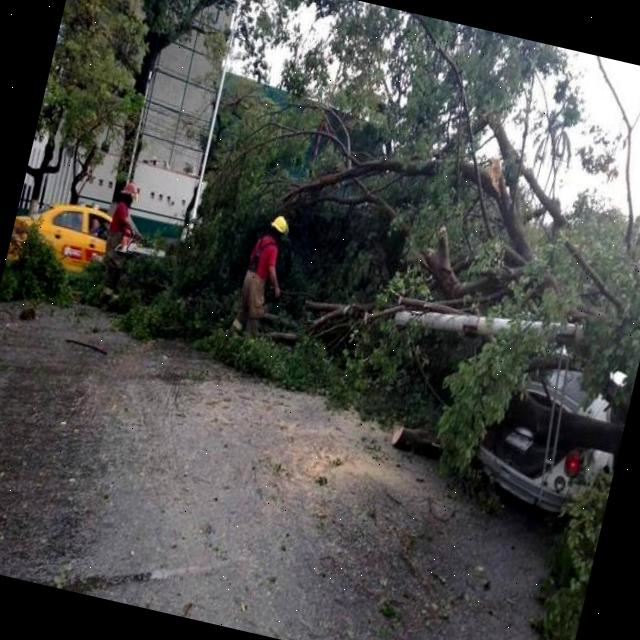Broken Pole: (394, 282, 581, 368)
